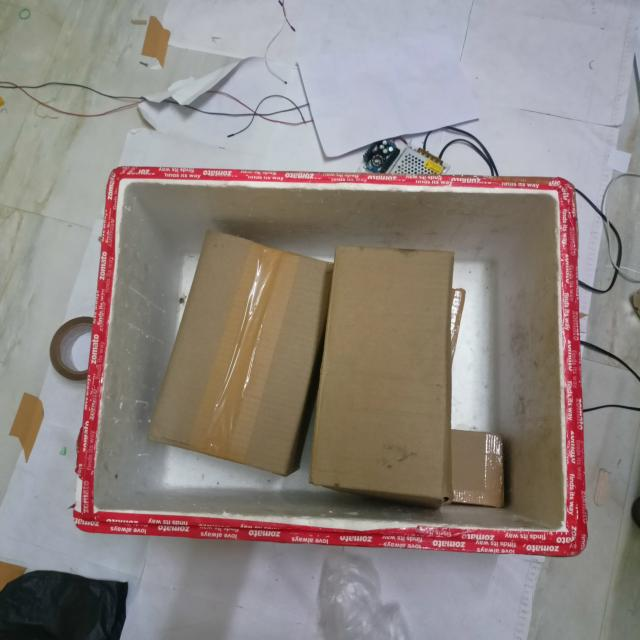box: (148, 236, 327, 482), (314, 250, 451, 506)
